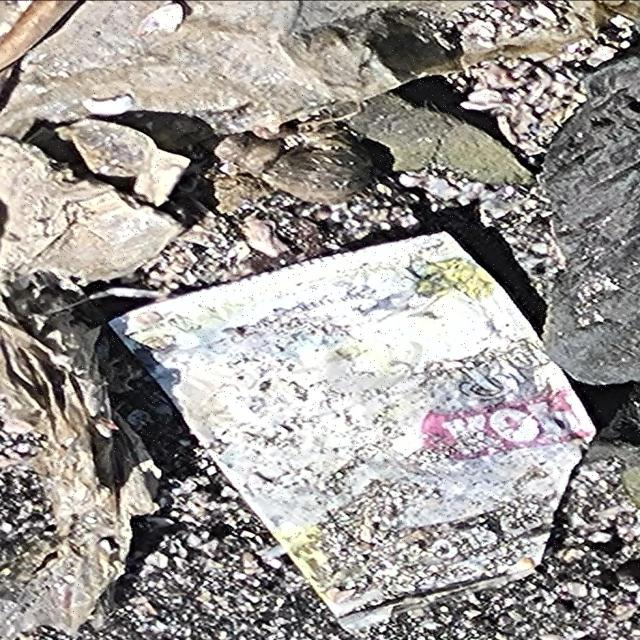plastic_waste: (107, 230, 600, 640)
